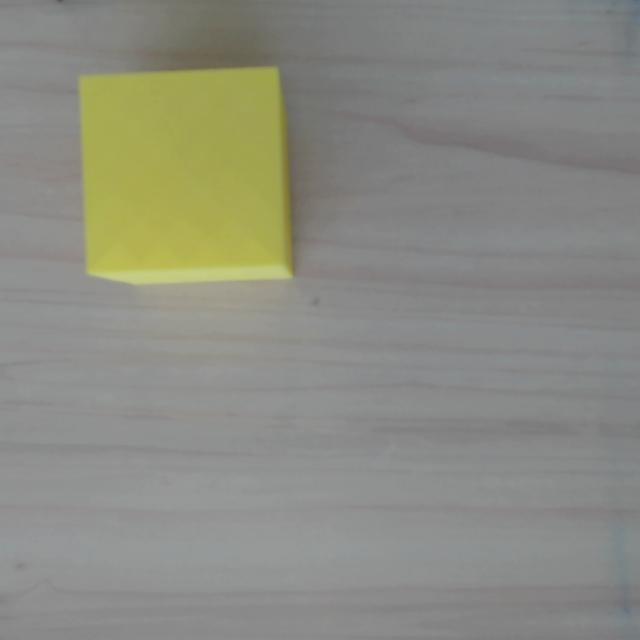Kubus-Kuning-505050: (78, 66, 292, 287)
